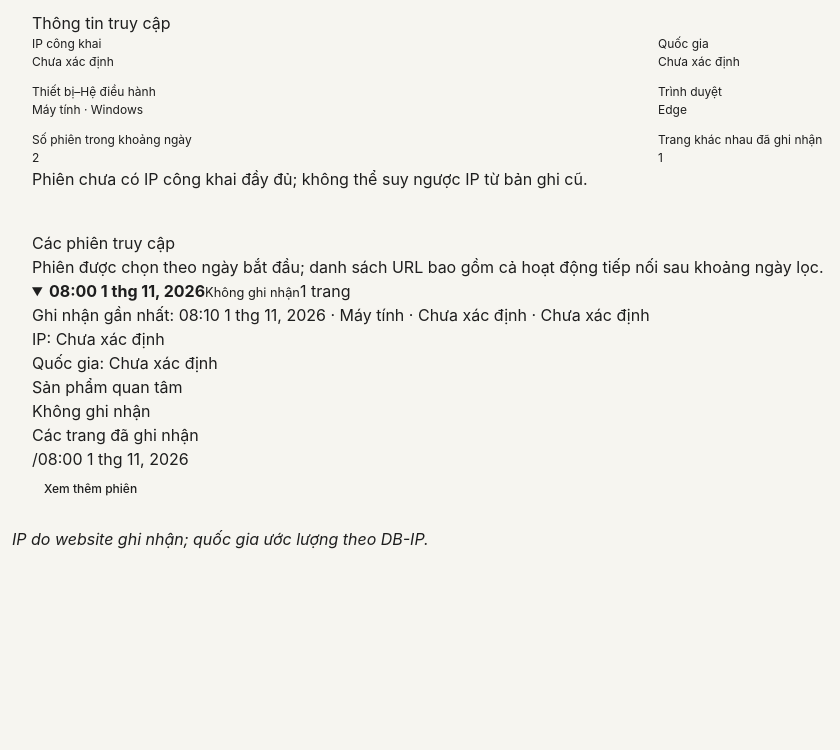
Test: cursor load retries without losing existing expanded sessions and deduplicates IDs
Click the button "Xem thêm phiên" at (91, 489), box [32,471,149,507]
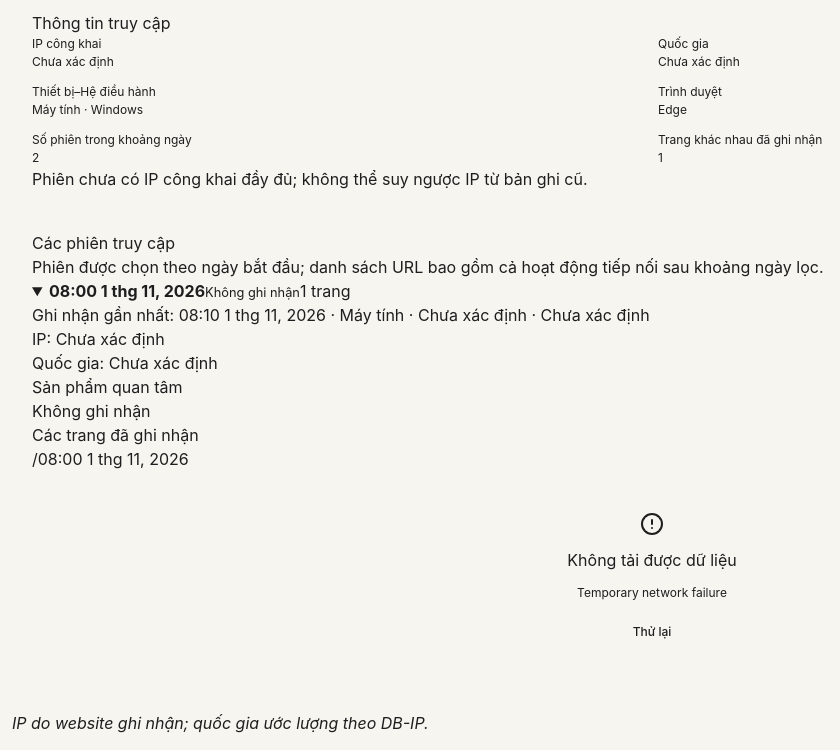
Click the button "Thử lại" at (652, 632), box [621,614,683,650]
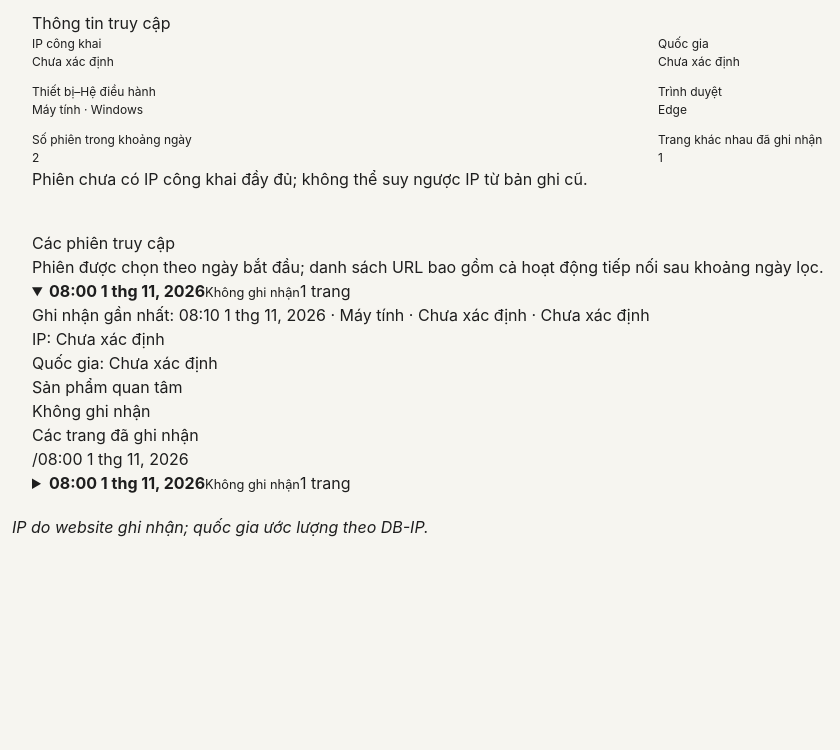
Check: the button "Xem thêm phiên" is not shown
Check: the number of elements with class "a-visitor-session-panel" is 2, box [32,281,650,469]; [49,473,350,493]
